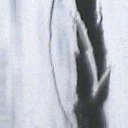crackTip: (46, 1, 119, 128)
